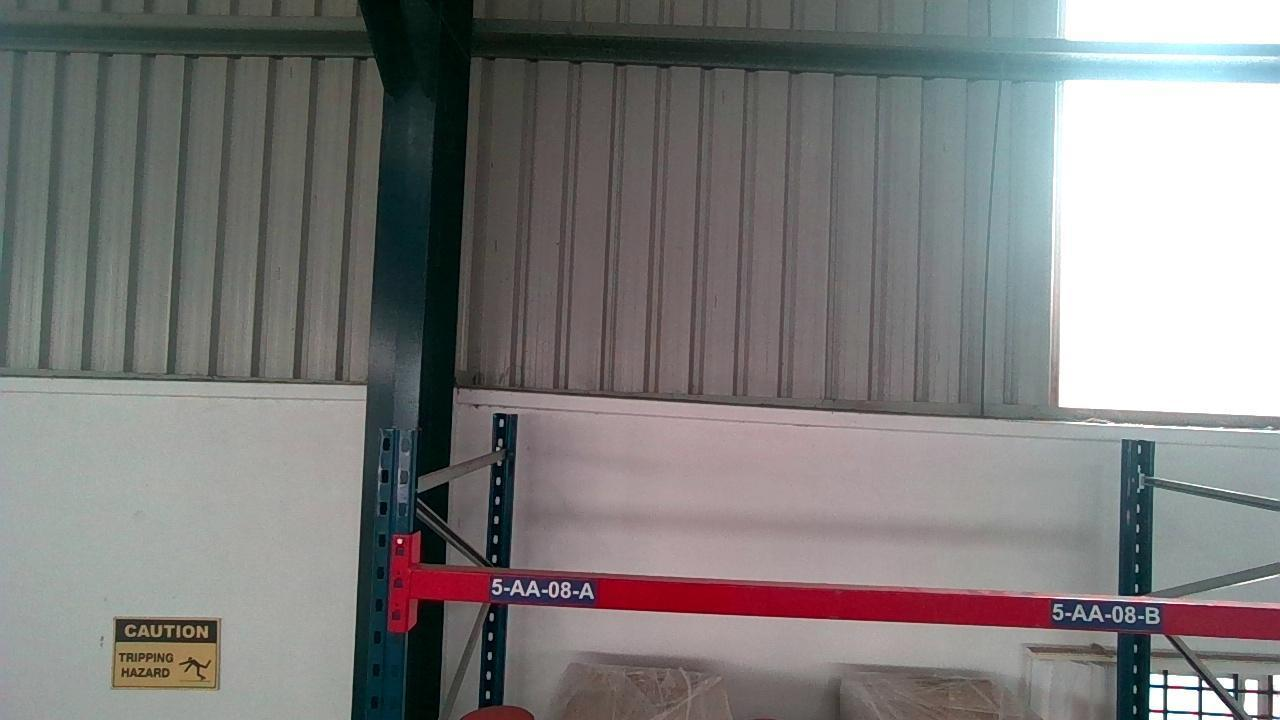h_rack: (416, 567, 1278, 635)
